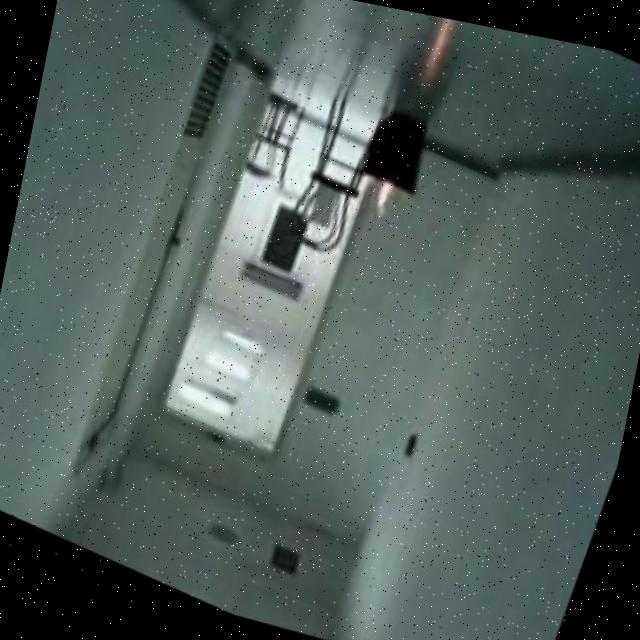fire: (367, 183, 401, 229)
